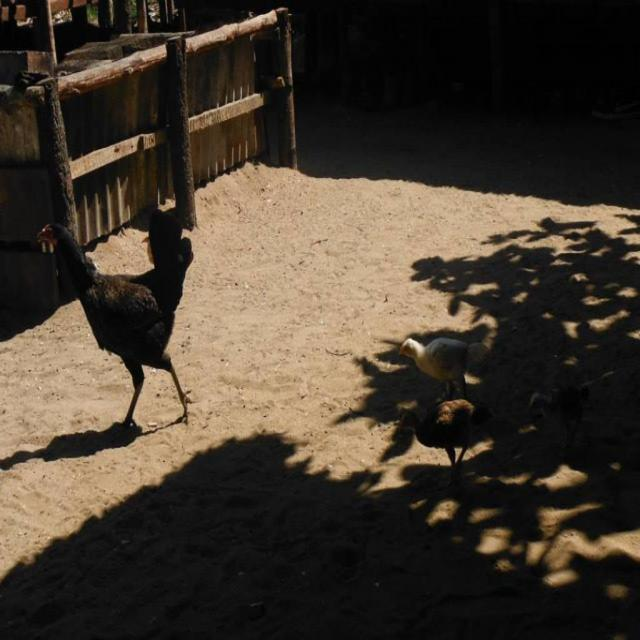Chicken: (39, 208, 192, 429), (420, 389, 486, 467)
